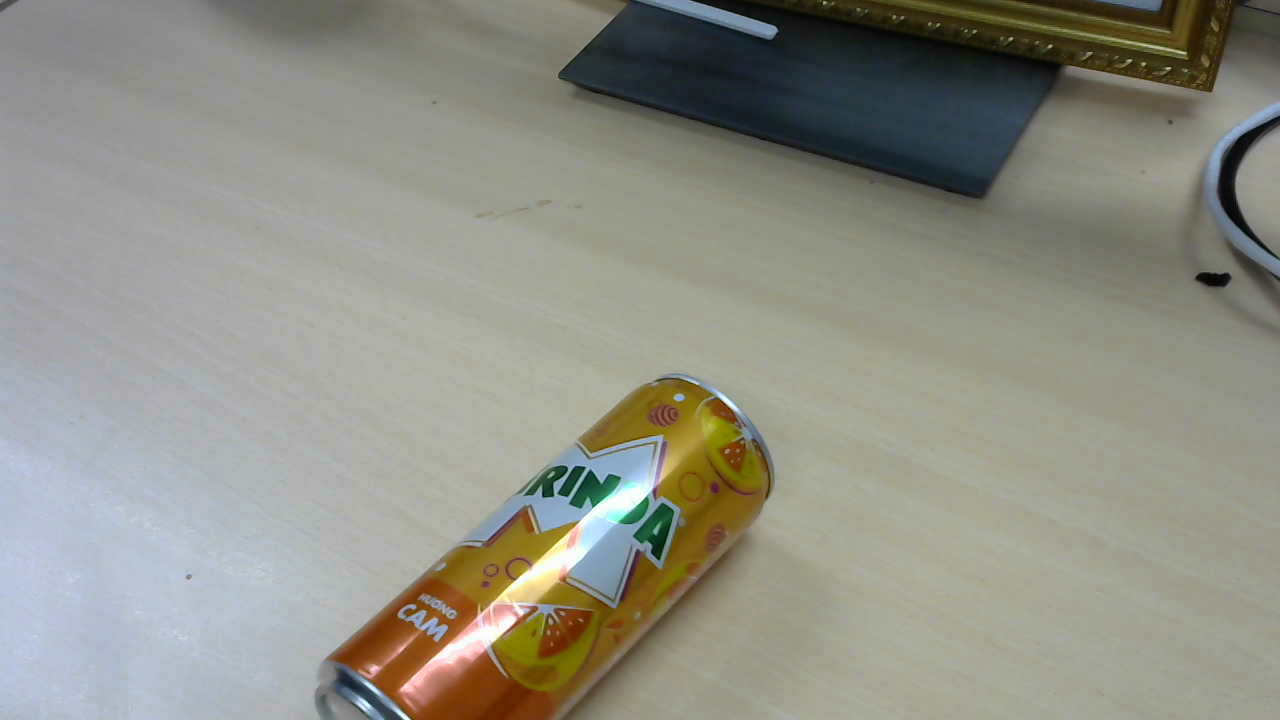Mirinda: (296, 368, 785, 704)
